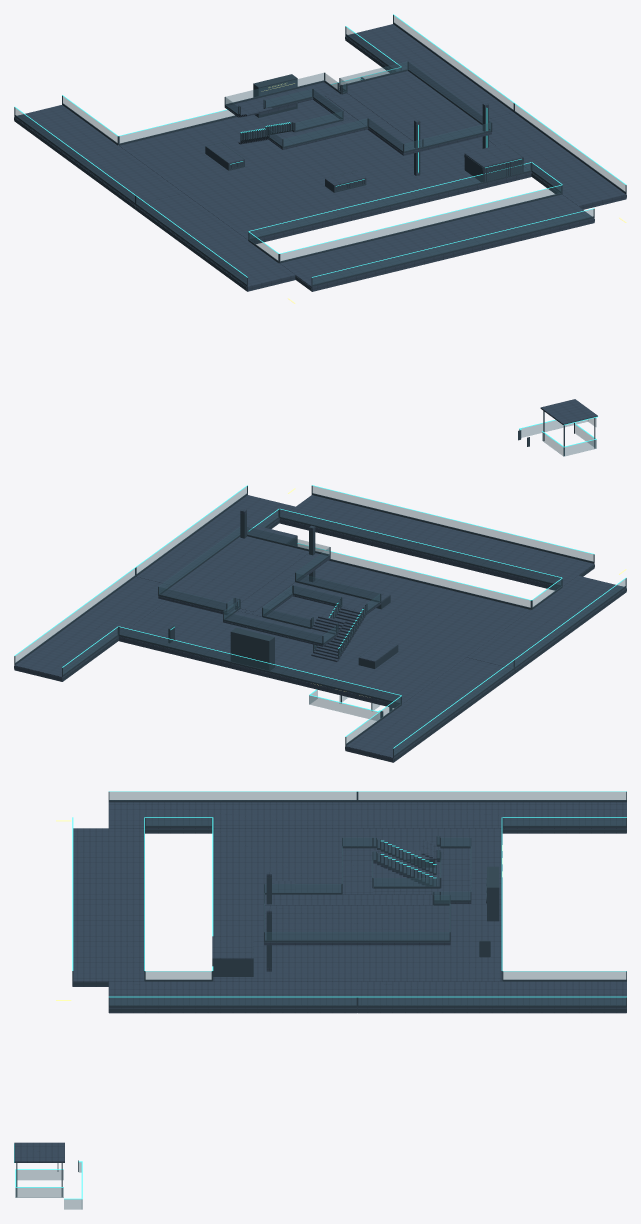
File: v02-detailed-01-05.glb
The picture shows the model from 3 angles, top to bottom: view 1: azimuth 30°, elevation 25°; view 2: azimuth 150°, elevation 25°; view 3: azimuth 270°, elevation 25°; orthographic projection. The views are drawn at different scales.
Visible parts, largest first — view 1: v02-detailed-01-05; view 2: v02-detailed-01-05; view 3: v02-detailed-01-05.
Part boxes in pixels (left/top/right/bottom): v02-detailed-01-05: left=14, top=14, right=626, bottom=456; v02-detailed-01-05: left=14, top=485, right=626, bottom=762; v02-detailed-01-05: left=14, top=791, right=626, bottom=1209.
Bounding box in the file's own units: 47.1 × 30.8 × 59.13.
Materials: 5 (1 with a texture image).
